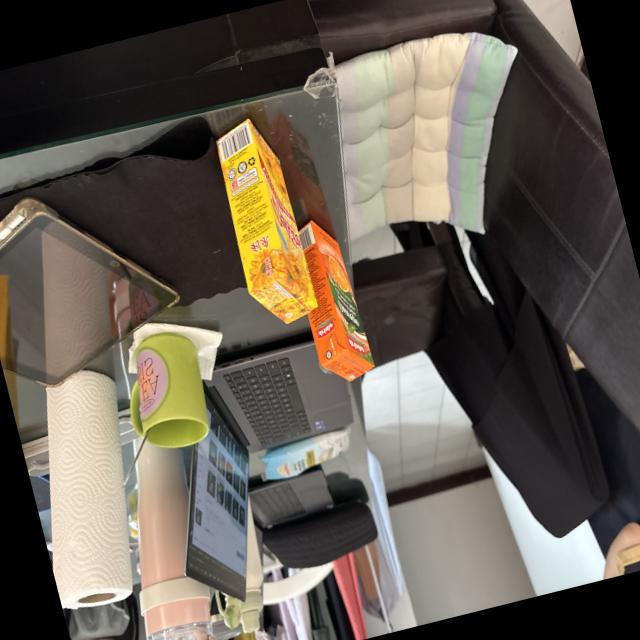drink_carton: (202, 101, 330, 341), (276, 202, 382, 400)
